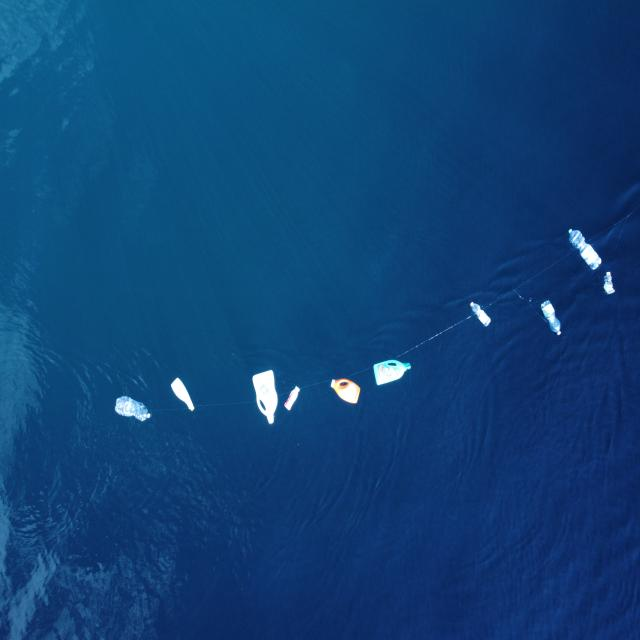bottles: (252, 369, 278, 424), (568, 228, 602, 270), (374, 359, 412, 386), (114, 397, 151, 422), (170, 376, 195, 412), (330, 378, 360, 404), (540, 300, 562, 335), (469, 301, 491, 327), (284, 385, 300, 411), (603, 272, 615, 294)
